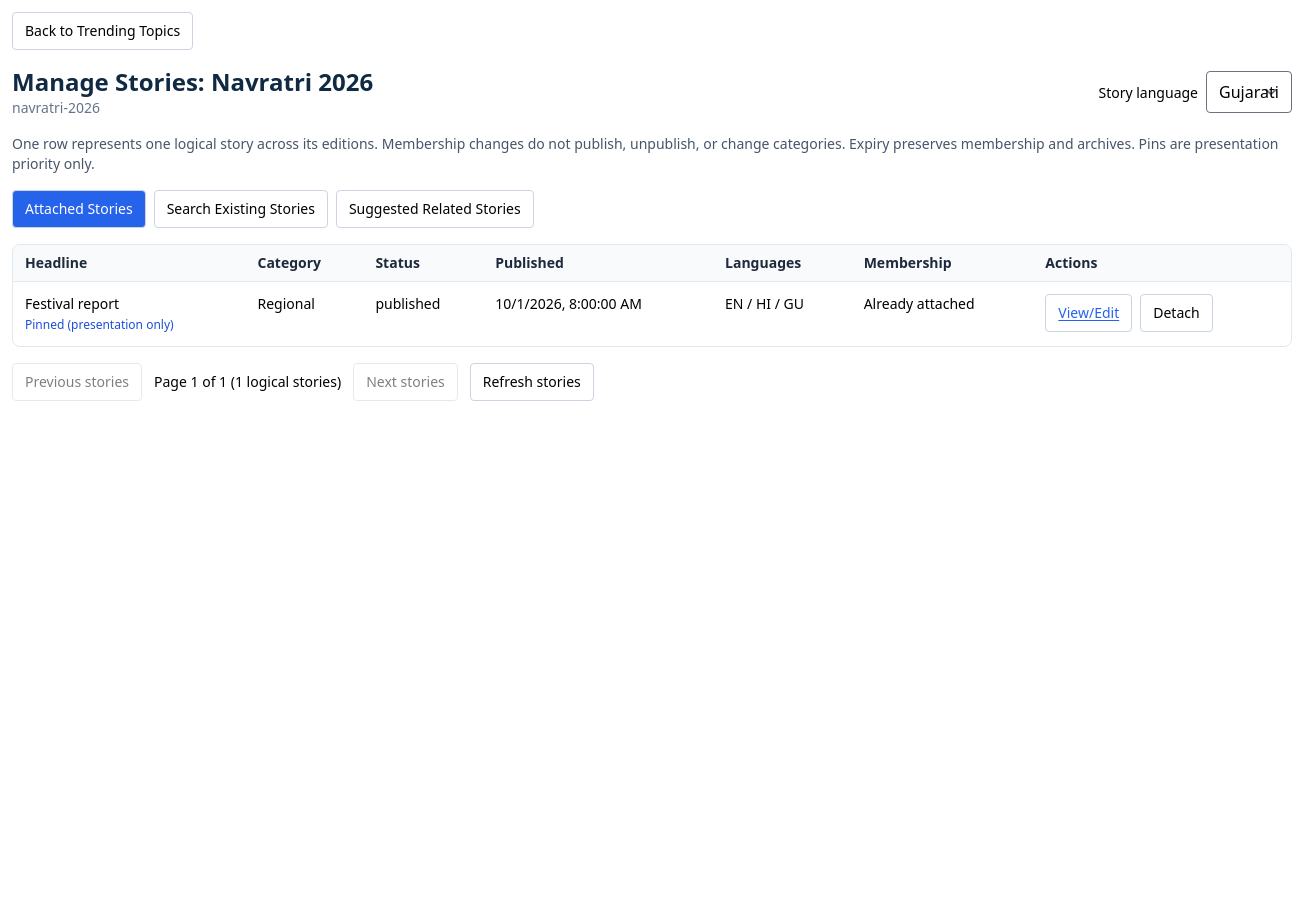
Test: Trending Topic attached/search/candidate UI › shows Backend candidates and match reasons without selecting or attaching them
The image size is (1304, 912).
Expected: the text "Festival report" is shown, [25, 294, 119, 313]
Click the button "Suggested Related Stories" at (435, 209), box [336, 190, 534, 228]
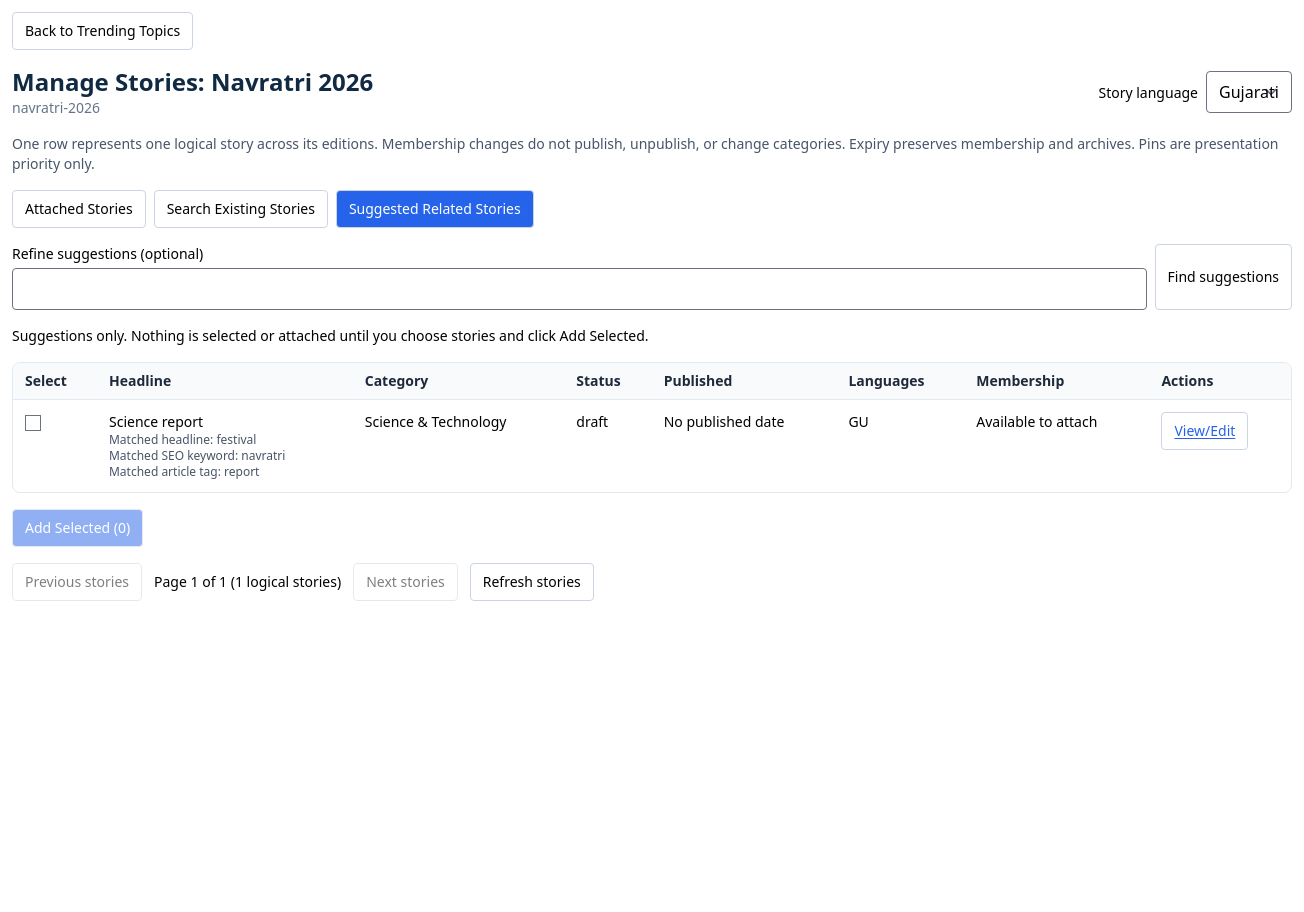
Now the text "Science report" is shown, box [109, 412, 203, 431]
Now the text "Matched headline: festival" is shown, box [109, 431, 256, 448]
Now the text "Matched SEO keyword: navratri" is shown, box [109, 447, 285, 464]
Click the checkbox named "Select Science report" at (33, 423), box [25, 415, 41, 431]
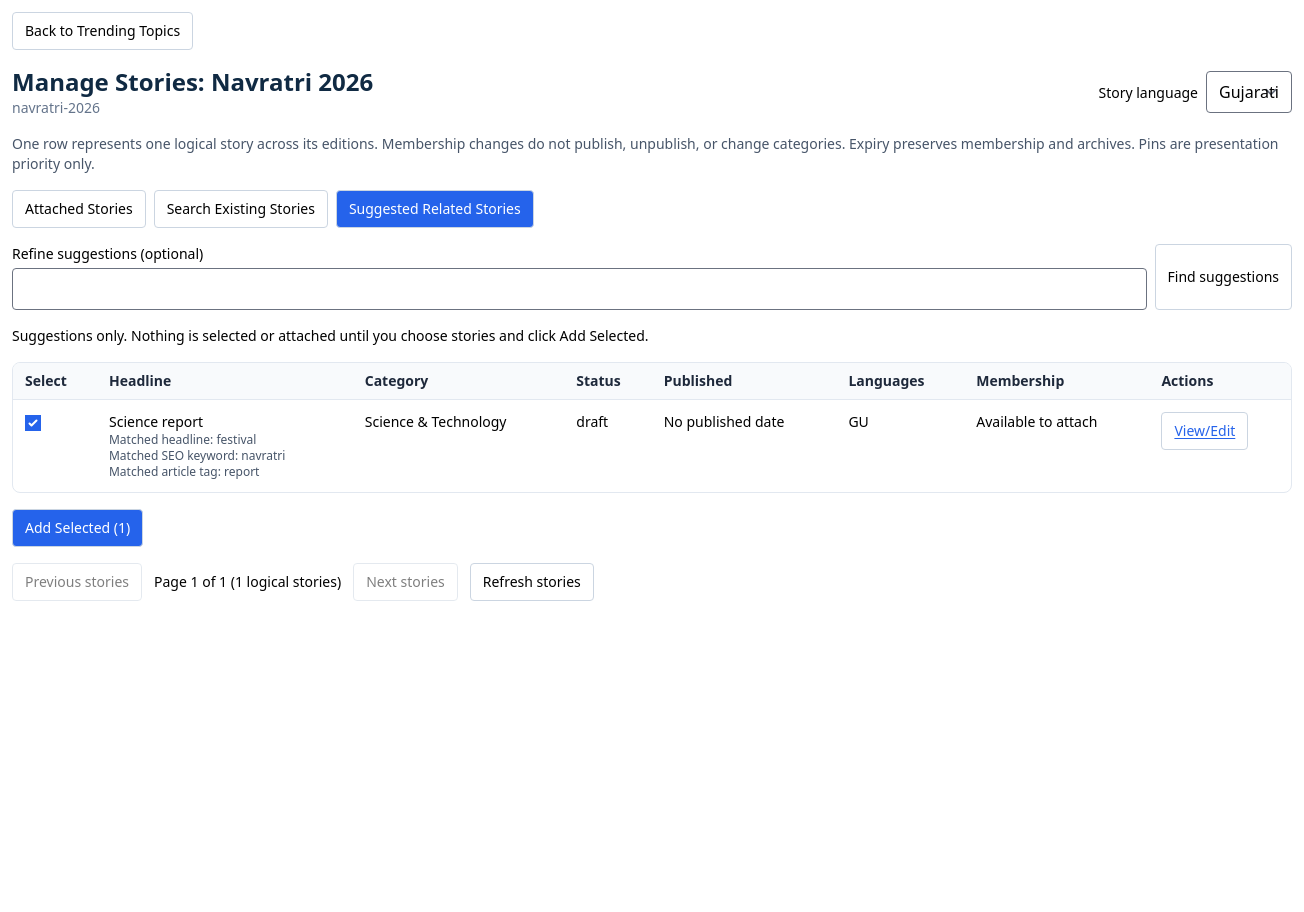
Click the button "Add Selected (1)" at (78, 528), box [12, 509, 143, 547]
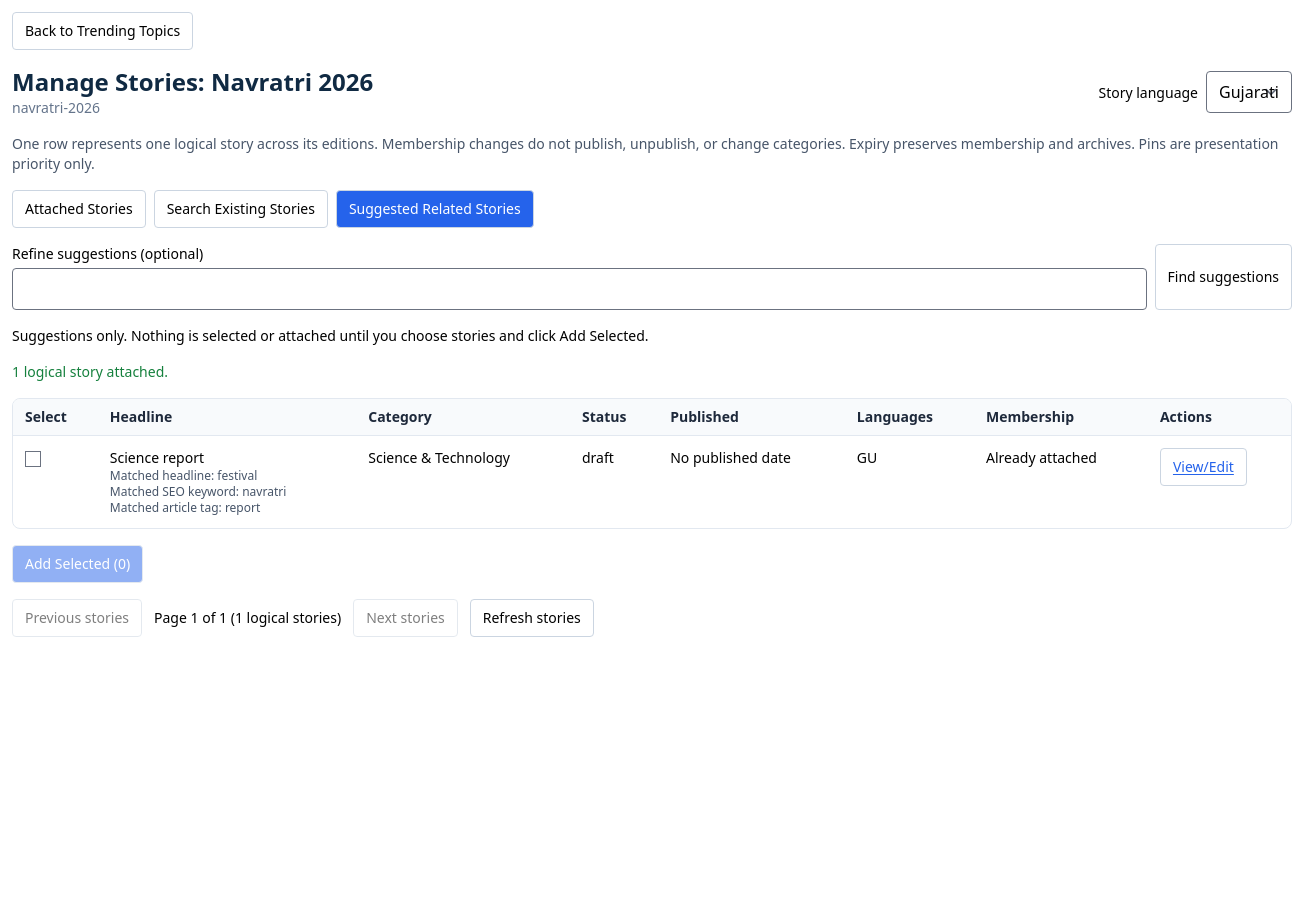
Now the text "1 logical story attached." is shown, box [12, 362, 168, 381]
